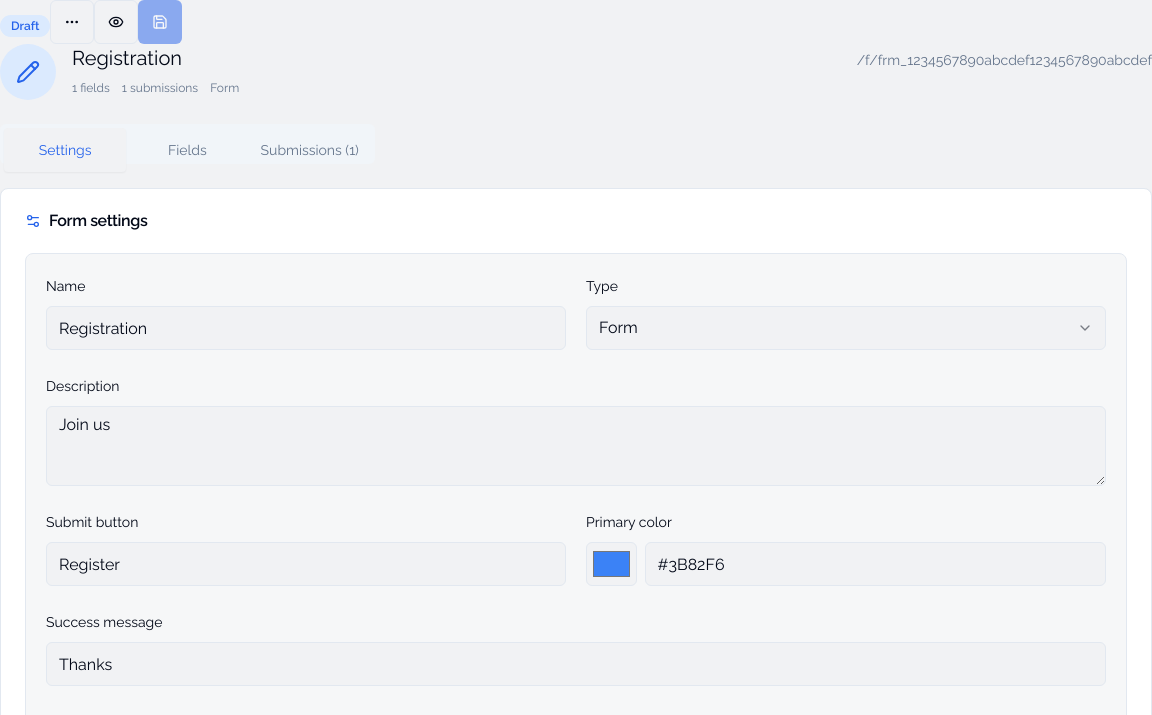
Test: FormEditorPage › shows configured labels for numeric submission keys and preserves unknown historical fields
This screenshot has width=1152, height=715.
Expected: the field labelled "Name" is shown, [46,306,566,350]
Press the mouse on the tab "Submissions (1)": (310, 150) [249,128,371,172]
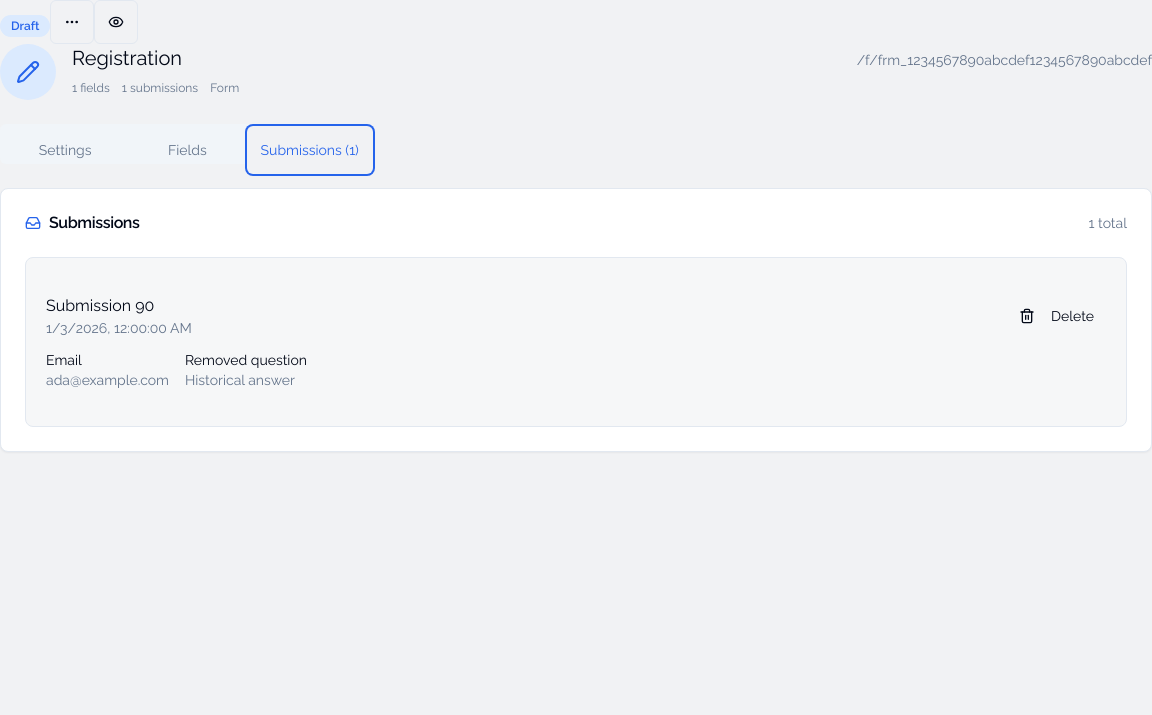
Expected: the text "Email" is shown, [46,352,82,368]
Now the text "Historical answer" is shown, box [185,370,308,390]
Now the text "Removed question" is shown, box [185,350,308,370]
